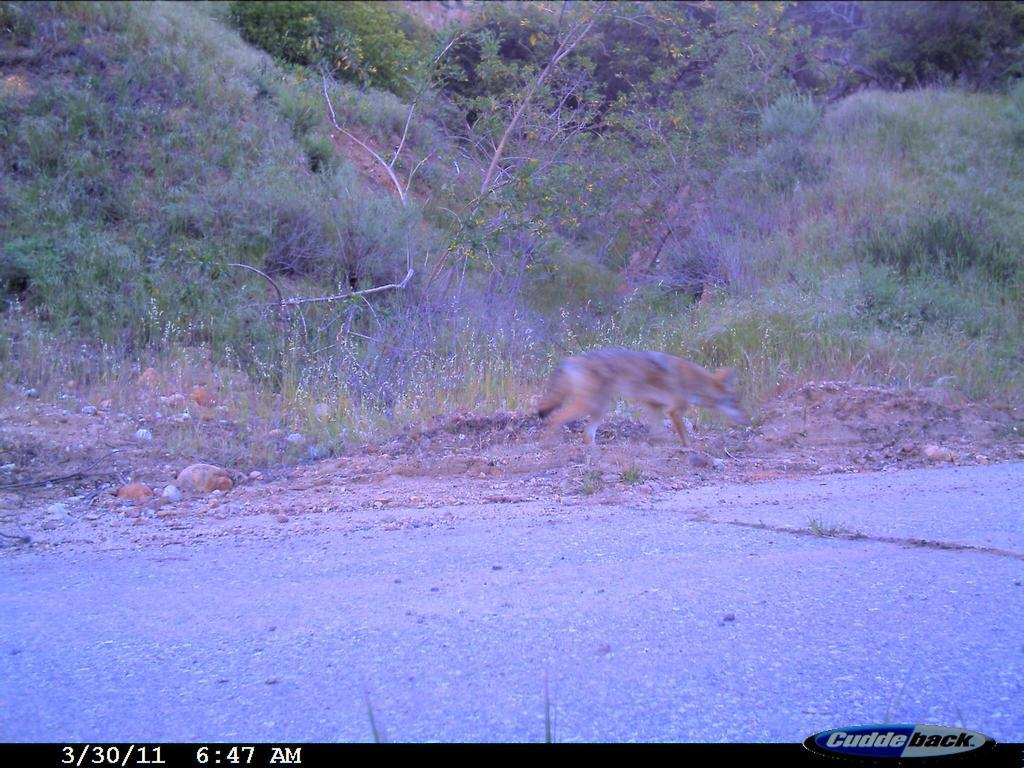coyote: (520, 336, 760, 484)
